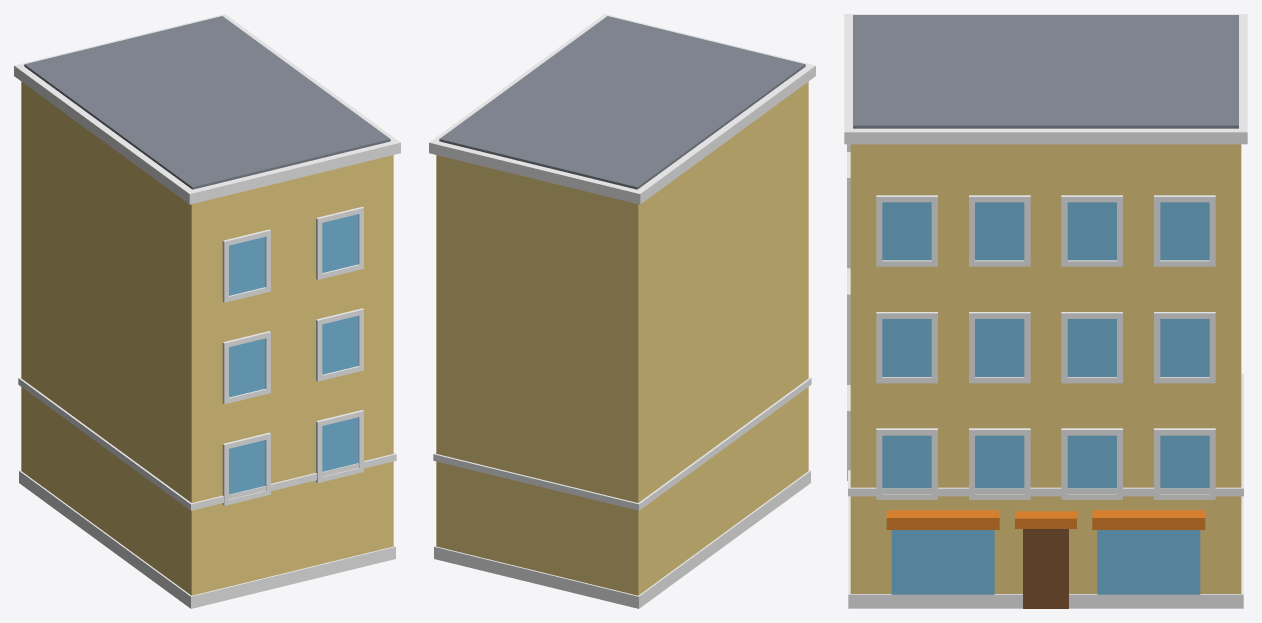
File: prop_building3.glb
The picture shows the model from 3 angles, left to right: view 1: azimuth 30°, elevation 25°; view 2: azimuth 150°, elevation 25°; view 3: azimuth 270°, elevation 25°; orthographic projection. The views are drawn at different scales.
Parts seen in each view (by area): view 1: main, roof, trim, glass, frames; view 2: main, roof, trim; view 3: main, glass, roof, frames, trim, awning, door.
Part boxes in pixels (x1,y1,x2,y2): main: [21, 81, 393, 595]; roof: [24, 16, 390, 189]; trim: [14, 14, 400, 608]; glass: [229, 214, 358, 494]; frames: [222, 206, 363, 505]; main: [436, 81, 808, 595]; roof: [439, 16, 805, 189]; trim: [429, 14, 815, 608]; main: [850, 144, 1241, 593]; glass: [882, 202, 1209, 594]; roof: [853, 15, 1238, 128]; frames: [847, 144, 1215, 499]; trim: [844, 14, 1247, 608]; awning: [886, 510, 1205, 529]; door: [1023, 529, 1068, 608].
Bounding box in the file's own units: 5.66 × 10.32 × 7.84.
